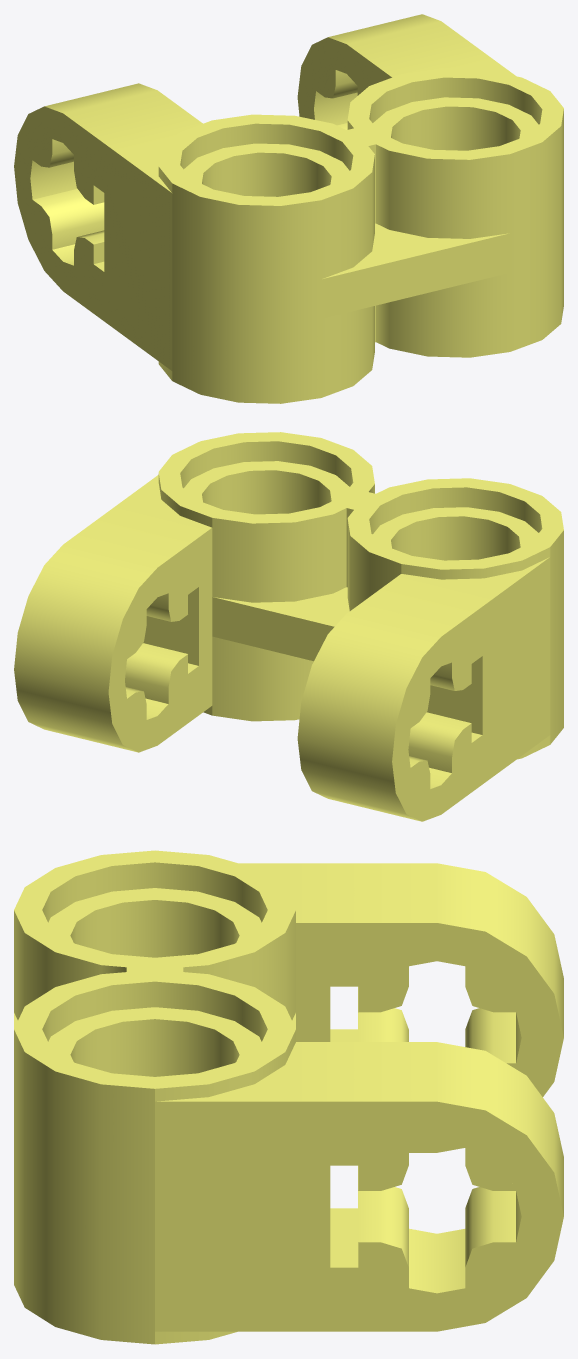
The picture shows the model from 3 angles, top to bottom: view 1: azimuth 30°, elevation 25°; view 2: azimuth 150°, elevation 25°; view 3: azimuth 270°, elevation 25°; orthographic projection. The views are drawn at different scales.
Parts seen in each view (by area): view 1: 41678.dat; view 2: 41678.dat; view 3: 41678.dat.
Part boxes in pixels (box(x1,y1,x2,y2)): 41678.dat: box(14, 14, 563, 403); 41678.dat: box(14, 432, 563, 821); 41678.dat: box(14, 850, 563, 1344).
Size of the model in its own units: 0.016 by 0.008 by 0.0156.
